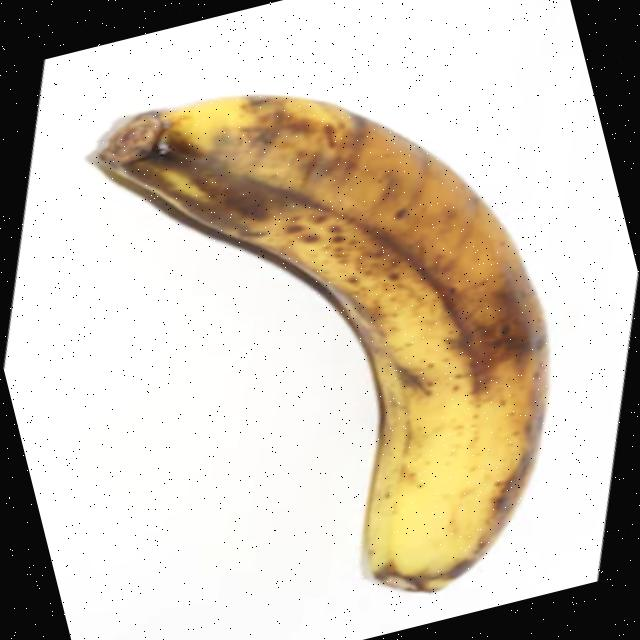overripe: (73, 26, 606, 640)
